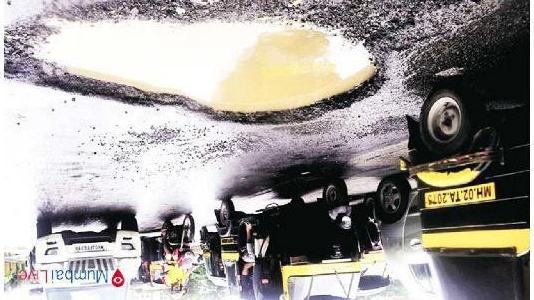pothole: (2, 0, 390, 128)
